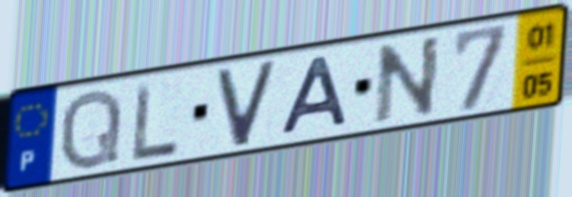7: (450, 20, 511, 115)
A: (278, 52, 353, 139)
L: (131, 77, 182, 165)
N: (372, 32, 444, 128)
Q: (56, 85, 126, 174)
V: (213, 56, 281, 151)
